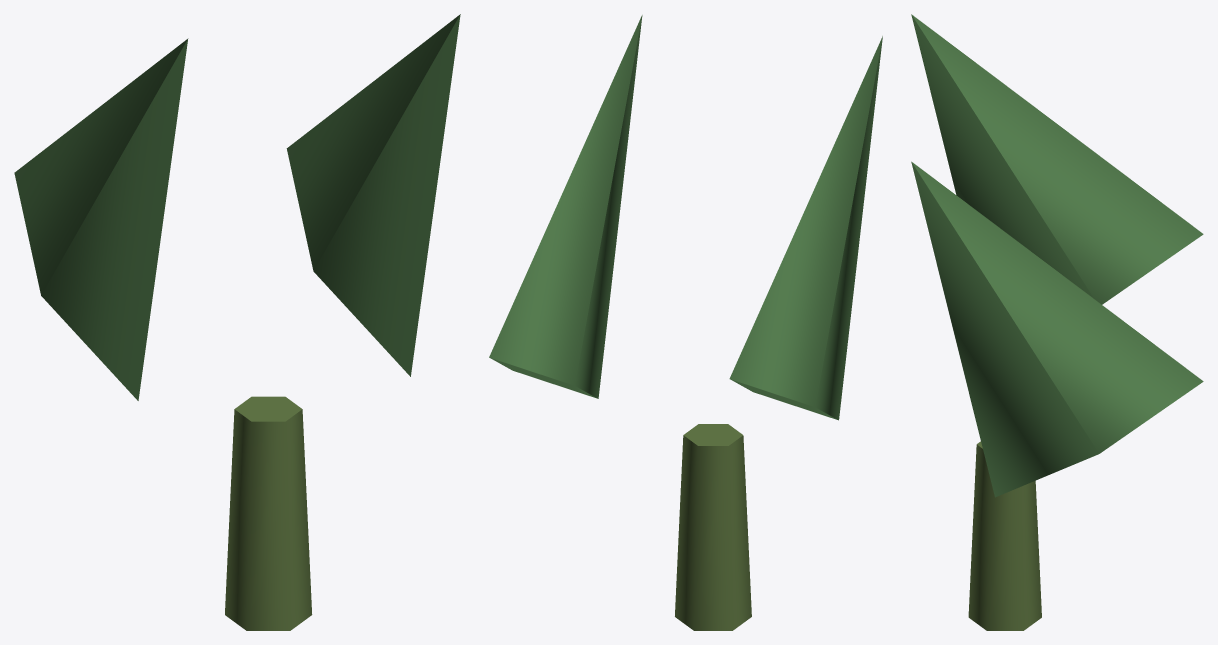
The model's file is crop-carrot-stage-1-sprout.glb.
3 views of the same model, side by side, from view 1: azimuth 30°, elevation 25°; view 2: azimuth 150°, elevation 25°; view 3: azimuth 270°, elevation 25° (orthographic). The views are drawn at different scales.
Visible parts, largest first — view 1: crop-carrot-stage-1-sprout-beach-foliage, crop-carrot-stage-1-sprout-beach-stem; view 2: crop-carrot-stage-1-sprout-beach-foliage, crop-carrot-stage-1-sprout-beach-stem; view 3: crop-carrot-stage-1-sprout-beach-foliage, crop-carrot-stage-1-sprout-beach-stem.
Part boxes in pixels (x1,y1,x2,y2): crop-carrot-stage-1-sprout-beach-foliage: [14, 14, 460, 400]; crop-carrot-stage-1-sprout-beach-stem: [225, 396, 312, 630]; crop-carrot-stage-1-sprout-beach-foliage: [489, 15, 882, 420]; crop-carrot-stage-1-sprout-beach-stem: [675, 424, 751, 630]; crop-carrot-stage-1-sprout-beach-foliage: [911, 14, 1203, 497]; crop-carrot-stage-1-sprout-beach-stem: [968, 441, 1041, 630].
Size of the model in its own units: 0.2266 by 0.411 by 0.1991.
